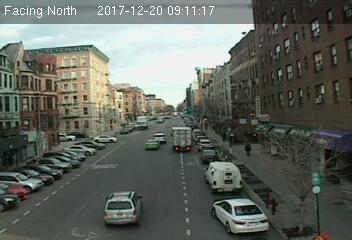car: (212, 196, 270, 237), (103, 190, 143, 224), (201, 149, 218, 161), (144, 137, 159, 150), (154, 132, 167, 145)
pedestrian: (243, 140, 253, 158)
truck: (203, 160, 242, 193), (172, 125, 192, 150)
